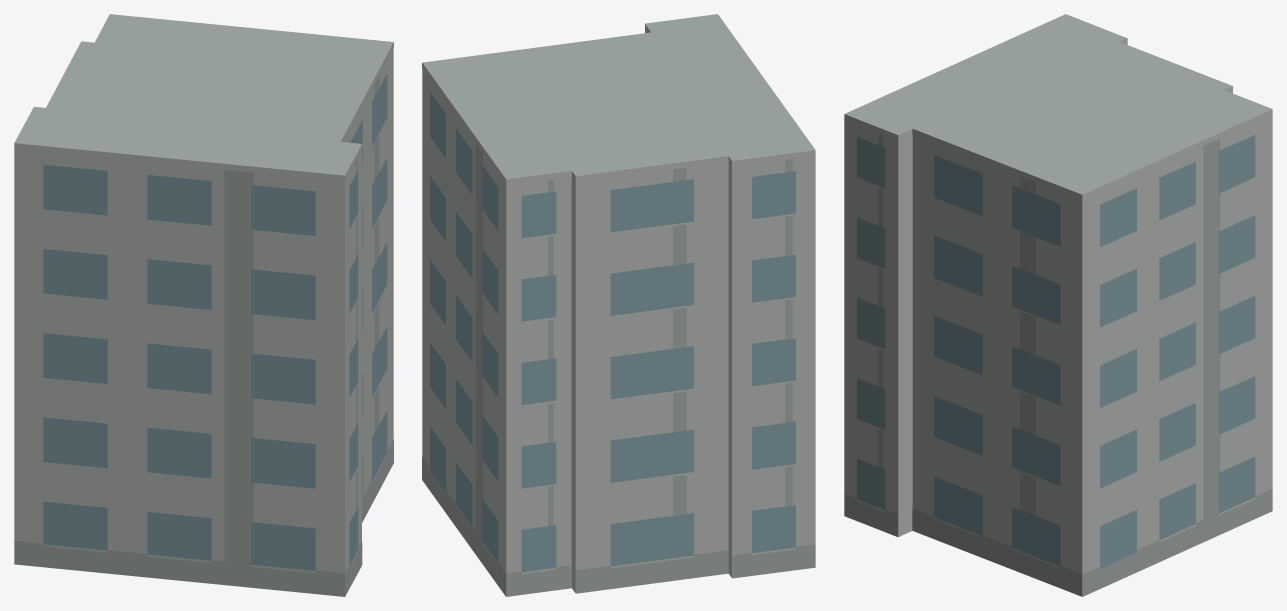
The model's file is survey-upis-32495210.glb.
3 renders of one model, left to right at view 1: azimuth 30°, elevation 25°; view 2: azimuth 150°, elevation 25°; view 3: azimuth 270°, elevation 25°, orthographic. The views are drawn at different scales.
Visible parts, largest first — view 1: survey-upis-32495210.tmp; view 2: survey-upis-32495210.tmp; view 3: survey-upis-32495210.tmp.
Part boxes in pixels (x1,y1,x2,y2): survey-upis-32495210.tmp: (14, 14, 393, 596); survey-upis-32495210.tmp: (422, 14, 815, 596); survey-upis-32495210.tmp: (844, 14, 1272, 596).
Bounding box in the file's own units: 16.31 × 16.9 × 16.33.
